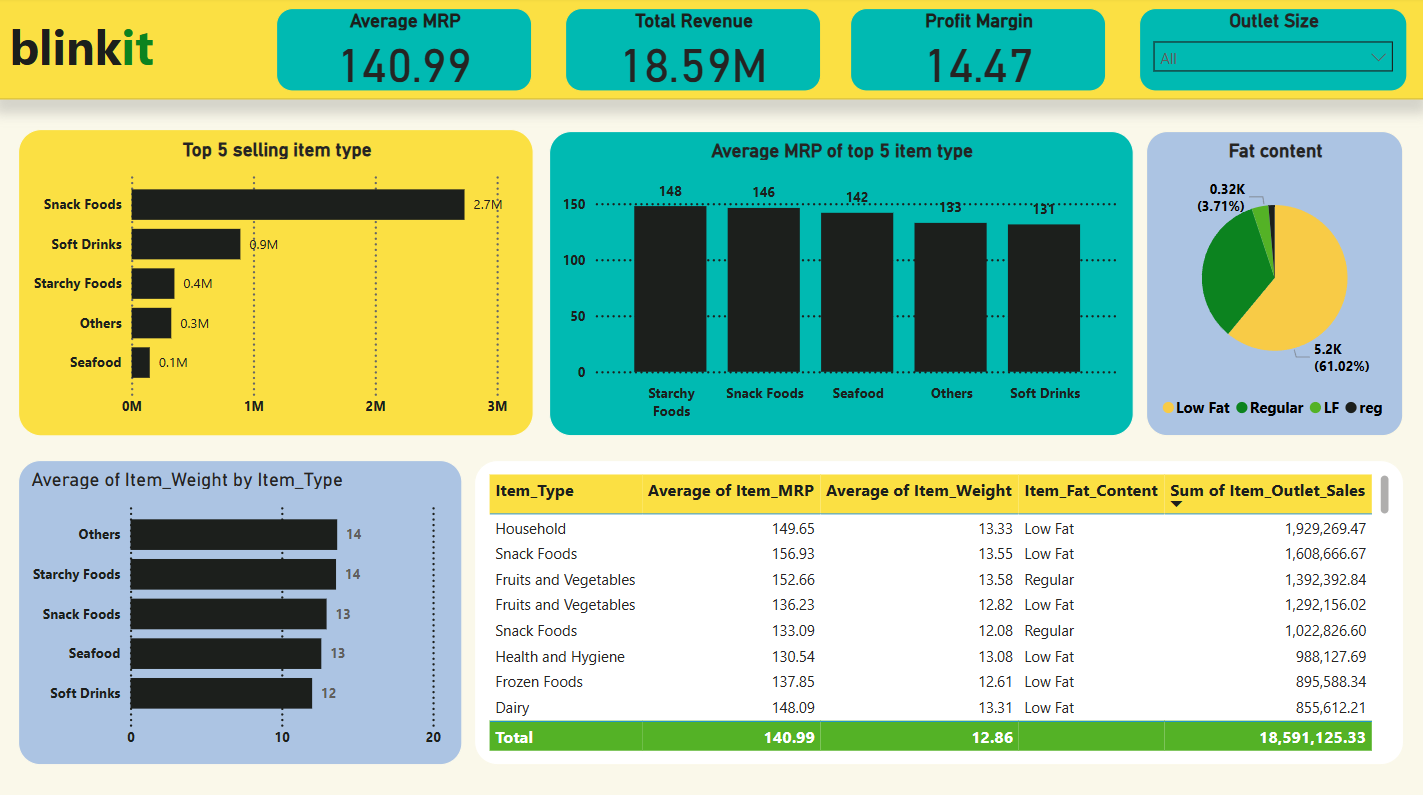

This screenshot's page, from the dashboard's own definition file:
{"tool":"powerbi","page":{"name":"Dashboard","canvas":[1280,720],"ordinal":1},"visuals":[{"type":"shape","box":[0,0,1280.3,91.9],"z":0},{"type":"textbox","box":[0,9.6,149.6,74.1],"z":1000},{"type":"barChart","title":"Top 5 selling item type","fields":{"Y":["Sum(Grocery sales data.Item_Outlet_Sales)"],"Category":["Grocery sales data.Item_Type"]},"box":[17.8,118.7,463.4,275.5],"z":2000},{"type":"columnChart","title":"Average MRP of top 5 item type","fields":{"Y":["Avg(Grocery sales data.Item_MRP)"],"Category":["Grocery sales data.Item_Type"]},"box":[495.1,120.1,524.6,274.1],"z":3000},{"type":"clusteredBarChart","fields":{"Category":["Grocery sales data.Item_Type"],"Y":["Avg(Grocery sales data.Item_Weight)"]},"box":[17.8,415.8,399.3,274.4],"z":4000},{"type":"tableEx","fields":{"Values":["Grocery sales data.Item_Type","Avg(Grocery sales data.Item_MRP)","Avg(Grocery sales data.Item_Weight)","Grocery sales data.Item_Fat_Content","Sum(Grocery sales data.Item_Outlet_Sales)"]},"box":[427.2,416.1,835,274.1],"z":5000},{"type":"pieChart","title":"Fat content ","fields":{"Category":["Grocery sales data.Item_Fat_Content"],"Y":["CountNonNull(Grocery sales data.Item_Type)"]},"box":[1030.8,120.1,231,274.1],"z":6000},{"type":"card","title":"Average MRP","fields":{"Values":["Avg(Grocery sales data.Item_MRP)"]},"box":[250,10,230,75],"z":7000},{"type":"slicer","title":"Outlet Size","fields":{"Values":["Grocery sales data.Outlet_Size"]},"box":[1024.7,9.8,240.9,74.6],"z":8000},{"type":"card","title":"Total Revenue","fields":{"Values":["Sum(Grocery sales data.Item_Outlet_Sales)"]},"box":[508.7,10,230,75],"z":9000},{"type":"card","title":"Profit Margin","fields":{"Values":["Grocery sales data.margin"]},"box":[765,10,230,75],"z":10000}]}

Visuals, with their boxes in screenshot pixels (x1, y1, x2, y2), scaled from the page's 1280x720 canvas onto the 1423x795 screenshot:
shape: region(0, 0, 1422, 101)
textbox: region(0, 11, 166, 92)
"Top 5 selling item type" barChart: region(20, 131, 535, 435)
"Average MRP of top 5 item type" columnChart: region(550, 133, 1134, 435)
clusteredBarChart - Grocery sales data.Item_Type x Avg(Grocery sales data.Item_Weight): region(20, 459, 464, 762)
tableEx - Grocery sales data.Item_Type x Avg(Grocery sales data.Item_MRP): region(475, 459, 1403, 762)
"Fat content " pieChart: region(1146, 133, 1403, 435)
"Average MRP" card: region(278, 11, 534, 94)
"Outlet Size" slicer: region(1139, 11, 1407, 93)
"Total Revenue" card: region(566, 11, 821, 94)
"Profit Margin" card: region(850, 11, 1106, 94)
